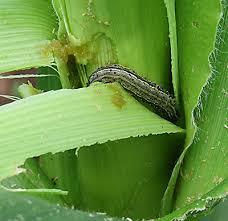fallarmy_worm: (85, 65, 178, 118)
